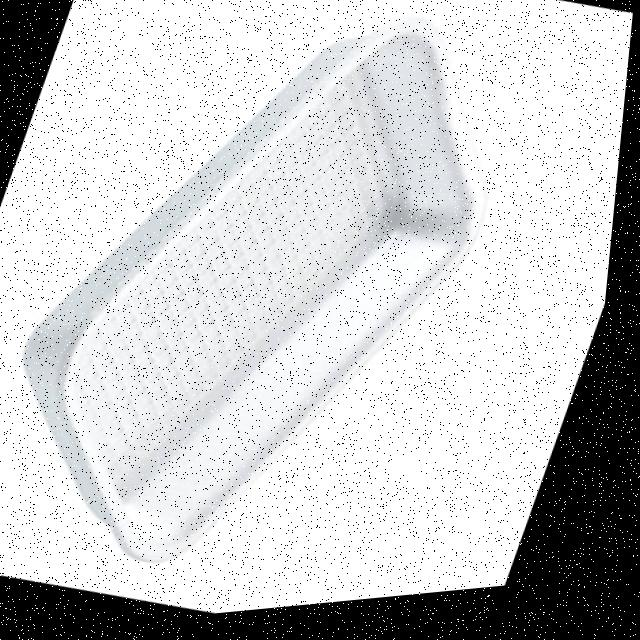foam: (0, 0, 583, 640)
